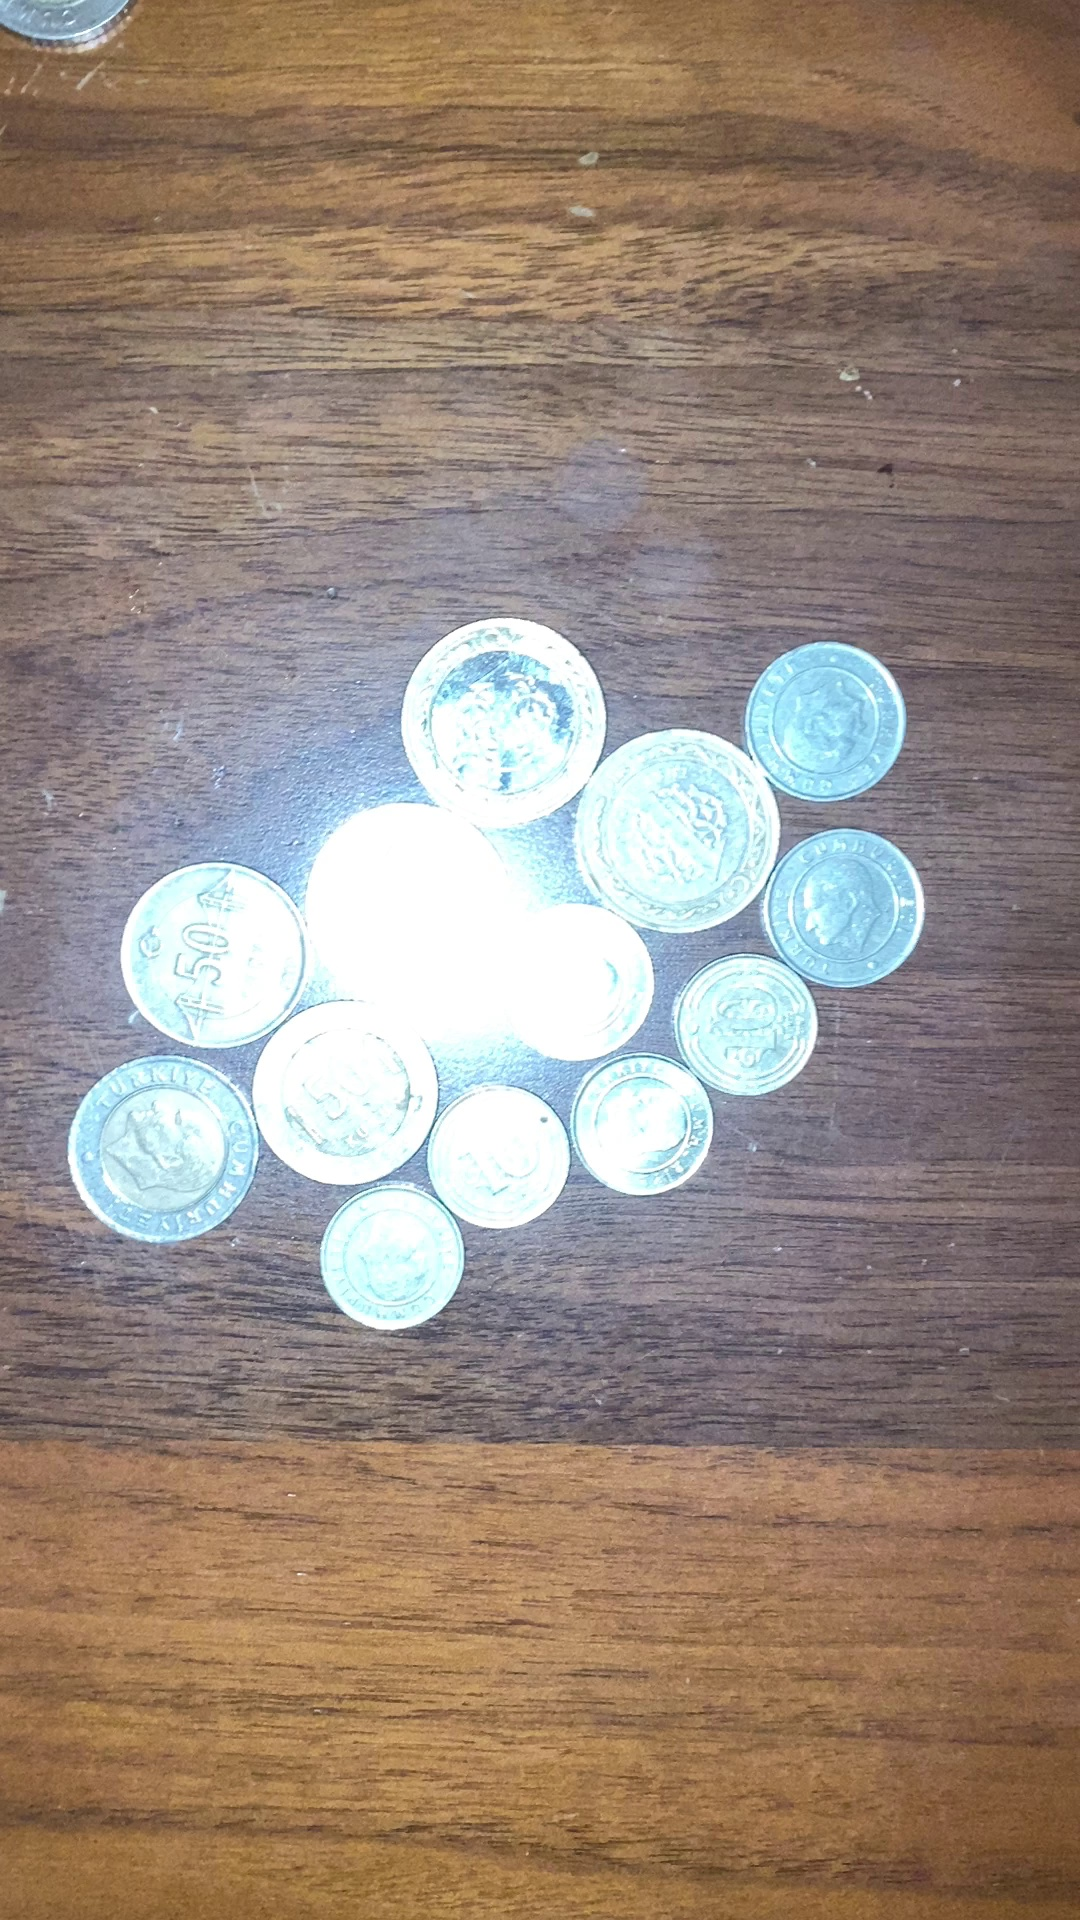10_kr: (675, 949, 819, 1098), (427, 1081, 571, 1229)
1_tl: (574, 723, 785, 936), (400, 615, 605, 829)
25_kr: (745, 642, 911, 802)
50_kr: (119, 862, 310, 1046), (65, 1054, 257, 1236)
